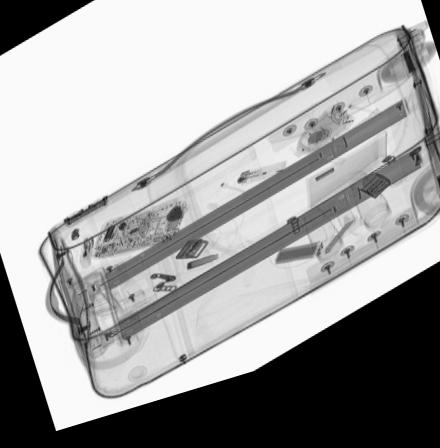Lighter: (233, 176, 286, 200)
